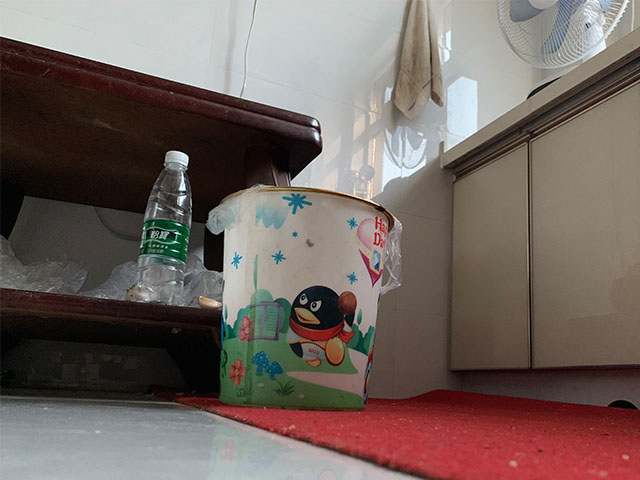cabinet: (443, 27, 640, 409)
carpet: (146, 389, 640, 480)
table: (1, 35, 323, 396)
trashcan: (221, 186, 395, 411)
